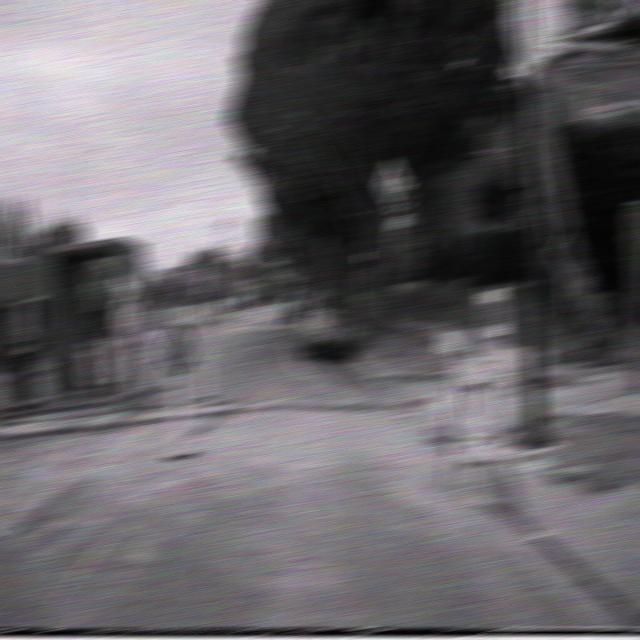noRightTurn: (450, 362, 500, 437)
pedestrianCrossing: (374, 156, 408, 206)
